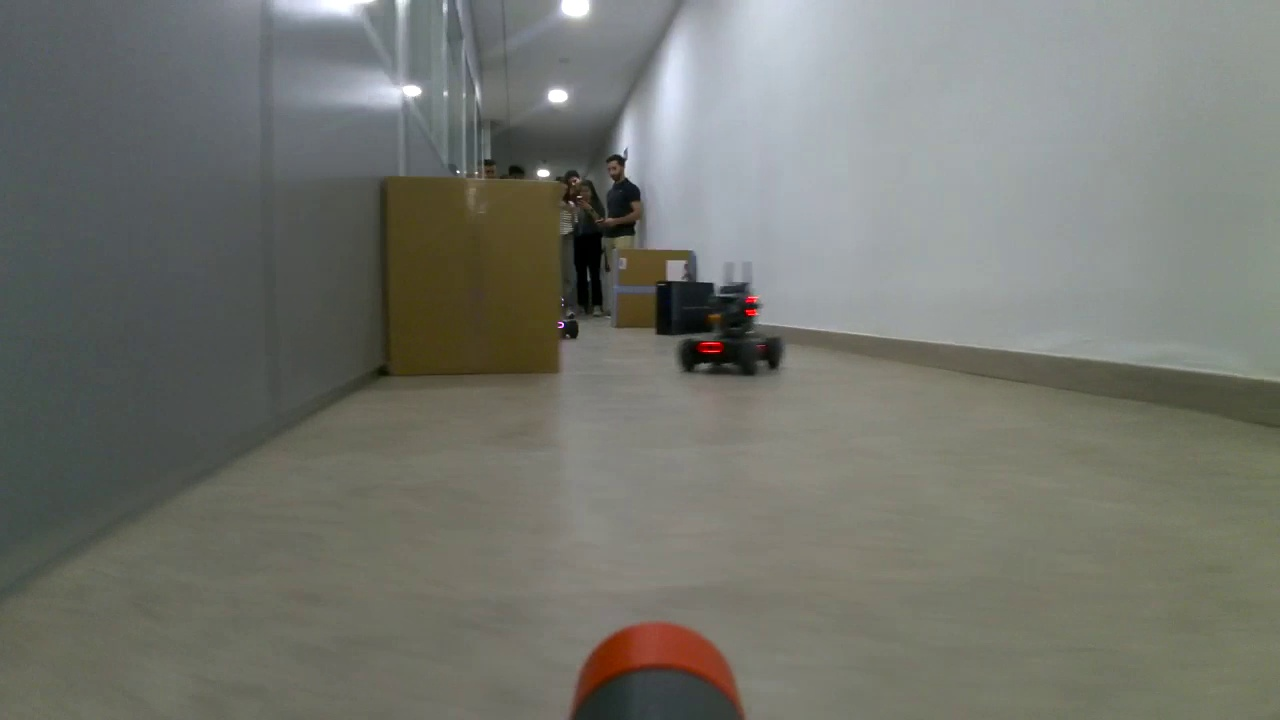robot: (676, 283, 789, 377)
